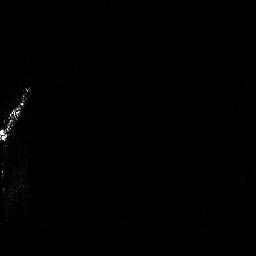ship: (1, 82, 34, 144)
